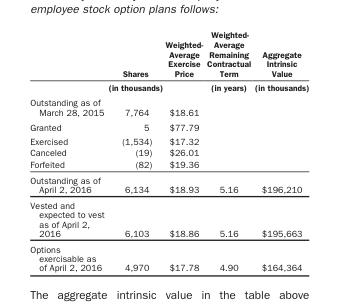table: (29, 29, 308, 272)
table column: (29, 29, 105, 272), (105, 29, 163, 272), (252, 29, 308, 272), (204, 29, 252, 272), (163, 29, 204, 272)
table column header: (29, 29, 308, 94)
table row: (29, 29, 308, 94), (29, 197, 308, 240), (29, 240, 308, 272), (29, 94, 308, 119), (29, 172, 308, 197), (29, 119, 308, 133), (29, 158, 308, 172), (29, 133, 308, 146), (29, 146, 308, 158)
